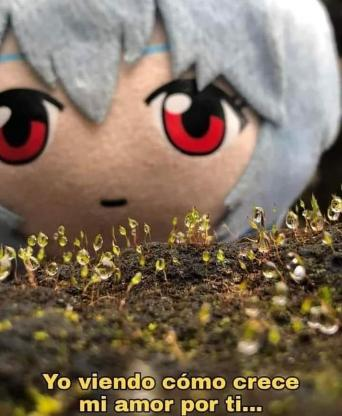rei-plush: (0, 0, 340, 254)
